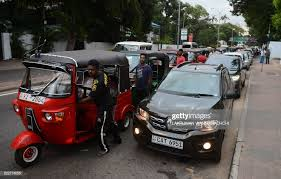tuk tuk: (9, 49, 134, 168), (135, 49, 169, 77)
